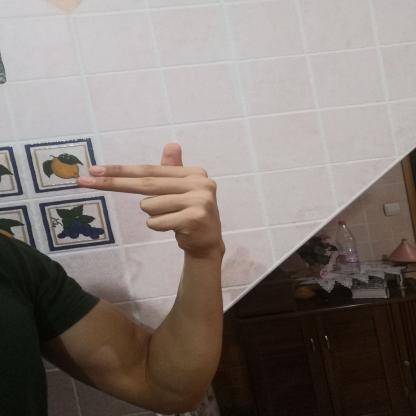GHAYN: (67, 134, 251, 276)
